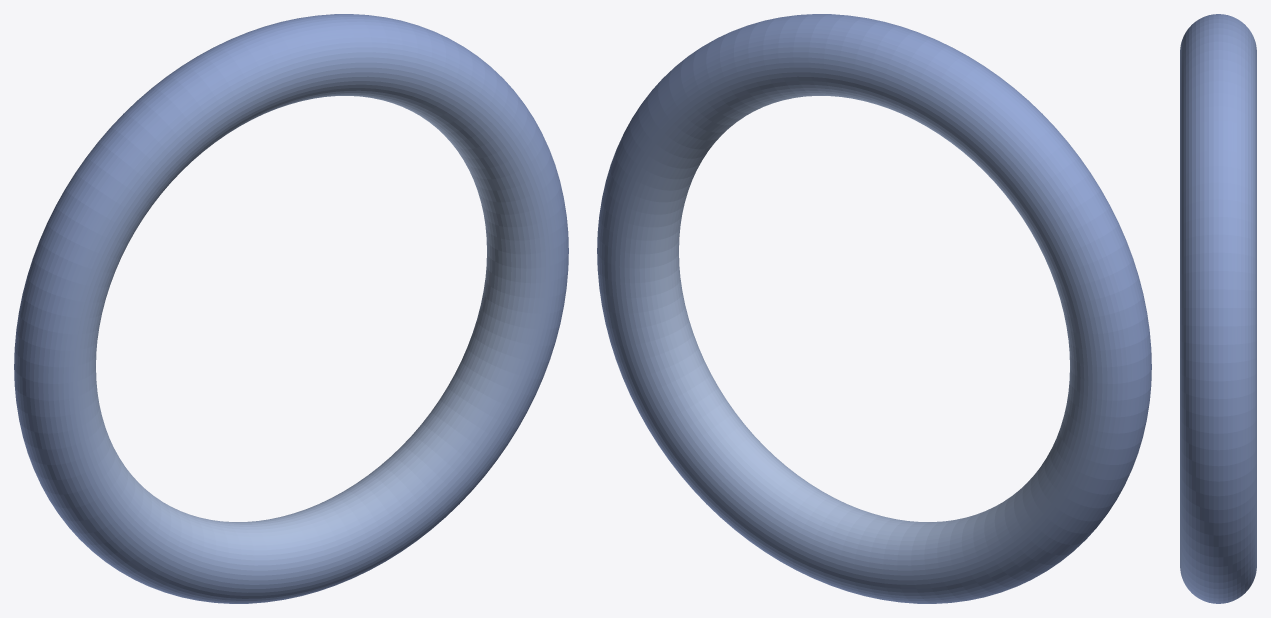
3 views of the same model, side by side, from view 1: azimuth 30°, elevation 25°; view 2: azimuth 150°, elevation 25°; view 3: azimuth 270°, elevation 25° (orthographic). The views are drawn at different scales.
Parts seen in each view (by area): view 1: world; view 2: world; view 3: world.
Boxes of the visible parts, box(x1,y1,x2,y2) form: world: box(14, 14, 568, 603); world: box(597, 14, 1151, 603); world: box(1180, 14, 1256, 603).
Bounding box in the file's own units: 15.33 × 15.33 × 2.
